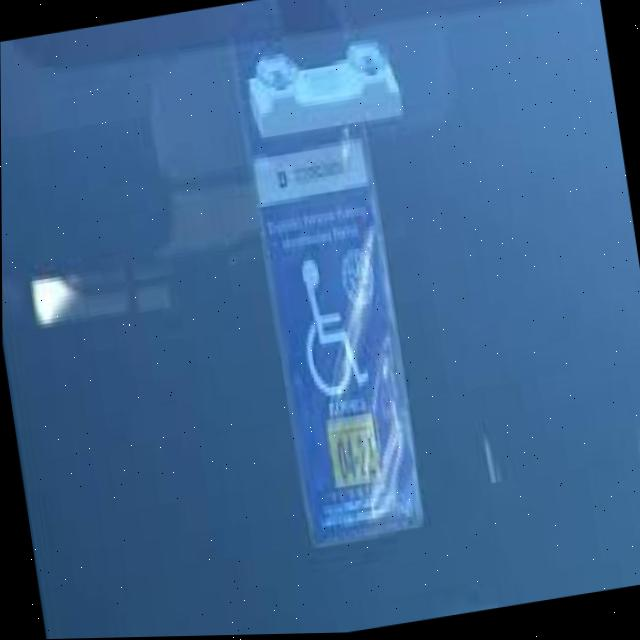symbol_of_access: (291, 251, 371, 406)
